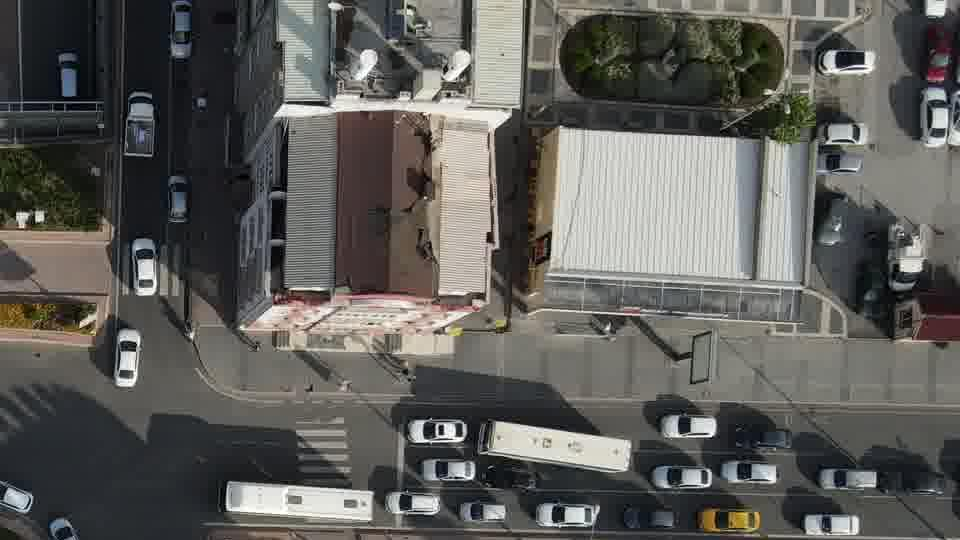bus: (476, 419, 631, 473), (214, 478, 375, 524)
cars: (879, 468, 949, 497), (917, 85, 948, 149), (855, 264, 890, 320), (113, 326, 143, 389), (166, 0, 196, 62), (481, 463, 541, 494), (922, 23, 953, 83), (620, 502, 683, 531), (535, 500, 600, 528), (817, 191, 850, 246), (719, 459, 782, 487), (406, 416, 468, 444), (817, 47, 878, 75), (384, 488, 442, 517), (131, 235, 158, 297), (650, 464, 714, 490), (733, 425, 793, 451), (165, 172, 194, 225), (802, 512, 864, 536), (55, 46, 83, 99), (419, 457, 476, 483), (659, 413, 717, 438), (818, 467, 878, 491), (814, 120, 869, 146), (815, 150, 865, 177), (458, 499, 506, 524), (0, 477, 33, 513), (49, 515, 87, 540), (946, 89, 960, 146), (923, 0, 947, 20)
truck: (885, 218, 931, 292), (121, 86, 160, 159)
